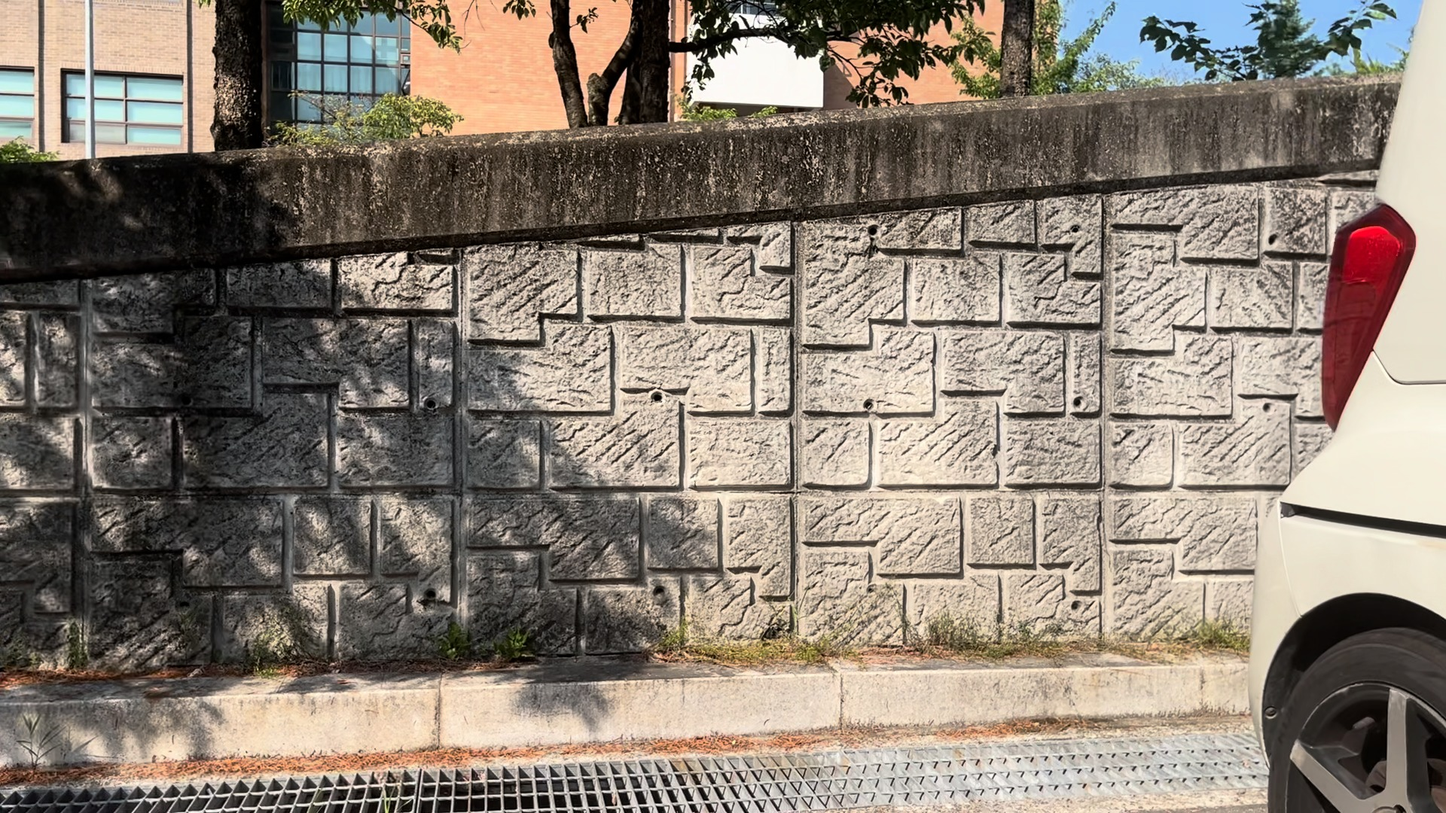tail_light: (1319, 203, 1412, 426)
